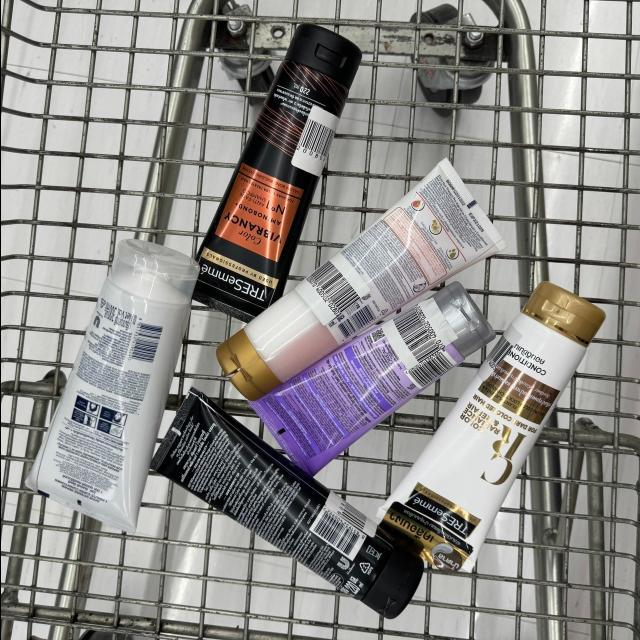Squeeze Tube: (194, 156, 525, 411), (365, 276, 626, 586), (145, 375, 433, 630), (170, 15, 394, 330), (11, 222, 220, 540), (248, 278, 507, 471)
